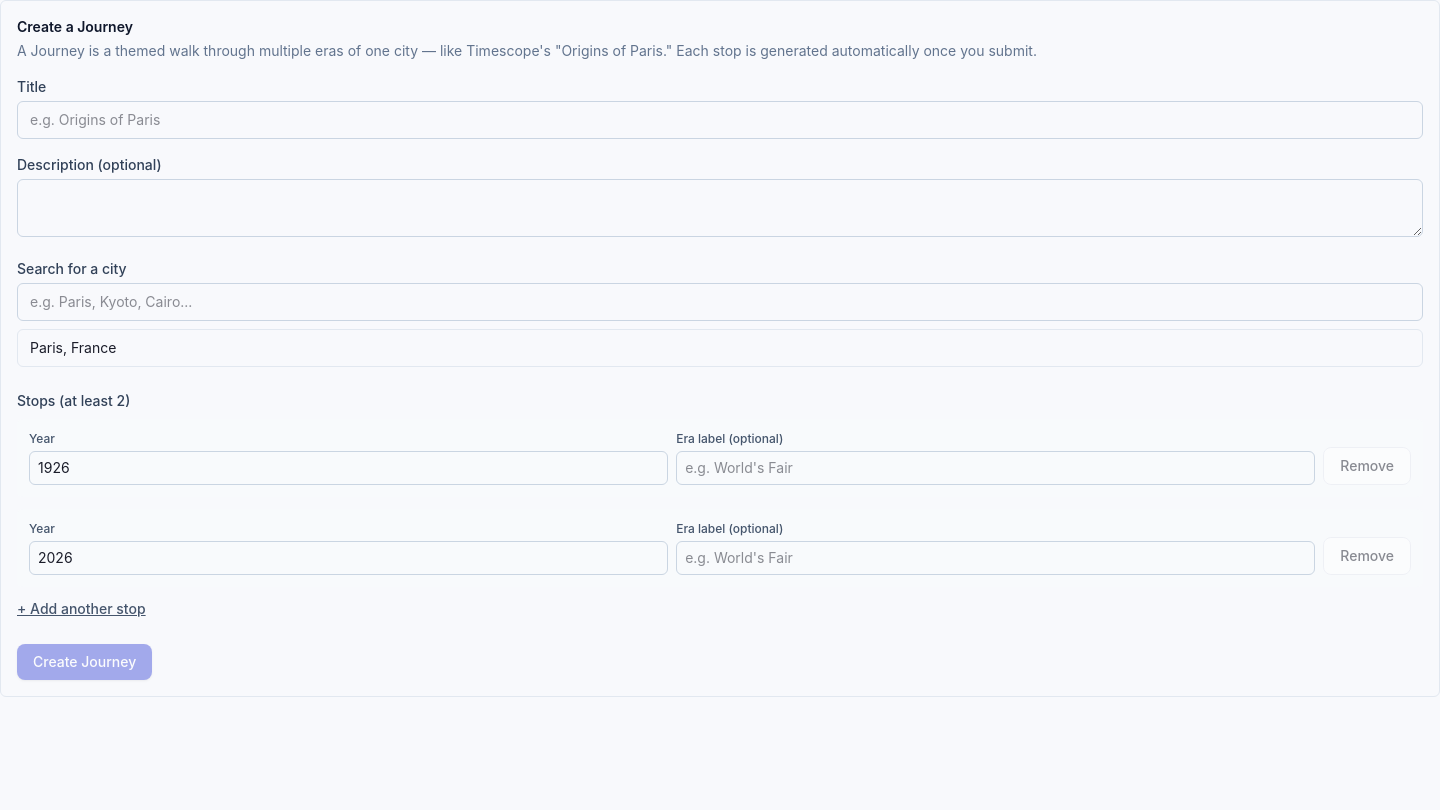
Scenario: CreateJourneyForm › starts with two stop rows and lets you add more
The width and height of the screenshot is (1440, 810).
Expected: the text "Year" is shown 2 times, [29,431,55,446]; [29,521,55,536]
Click the button "+ Add another stop".
click(81, 609)  # box [17,599,146,619]
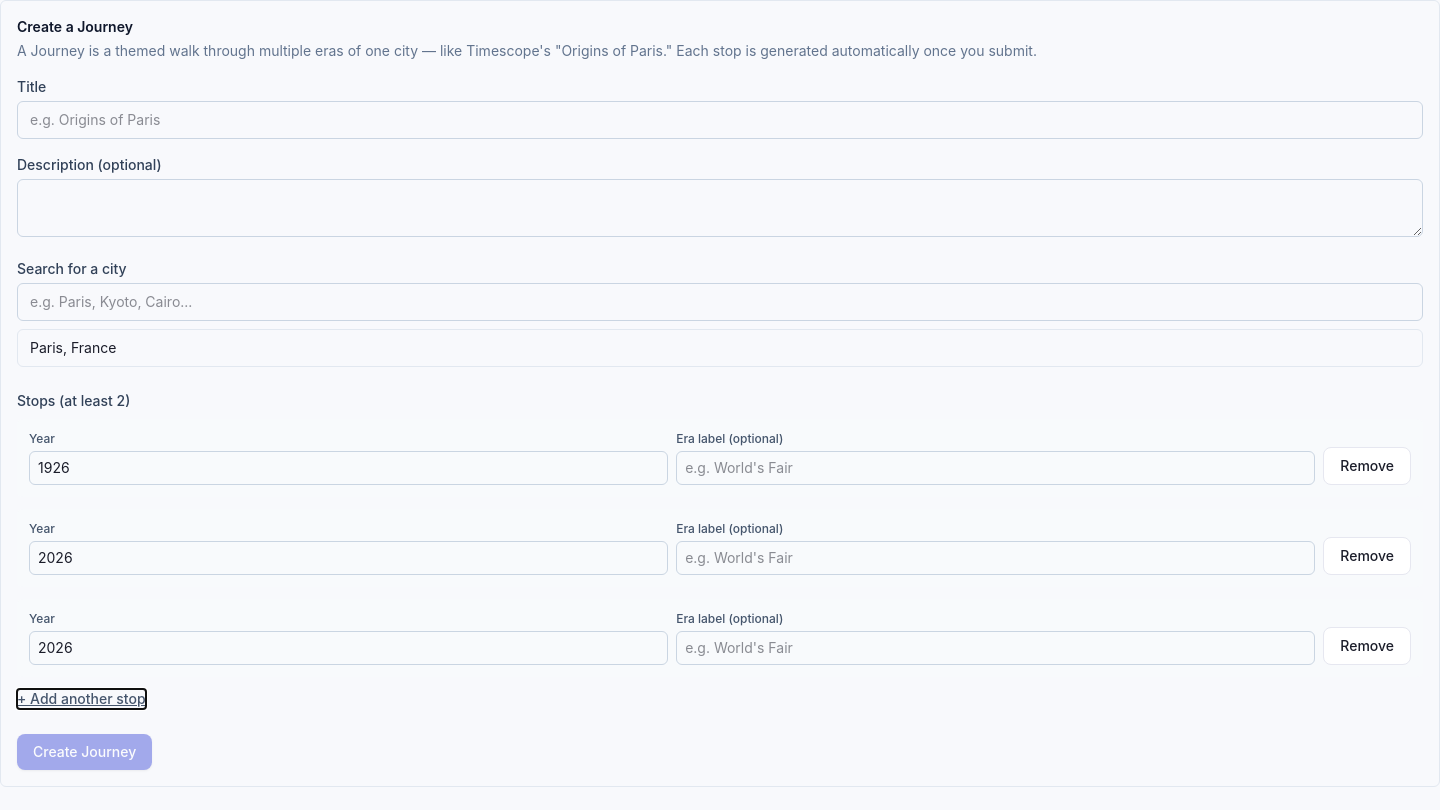
Now the text "Year" is shown 3 times, box [29,431,55,446]; [29,521,55,536]; [29,611,55,626]
